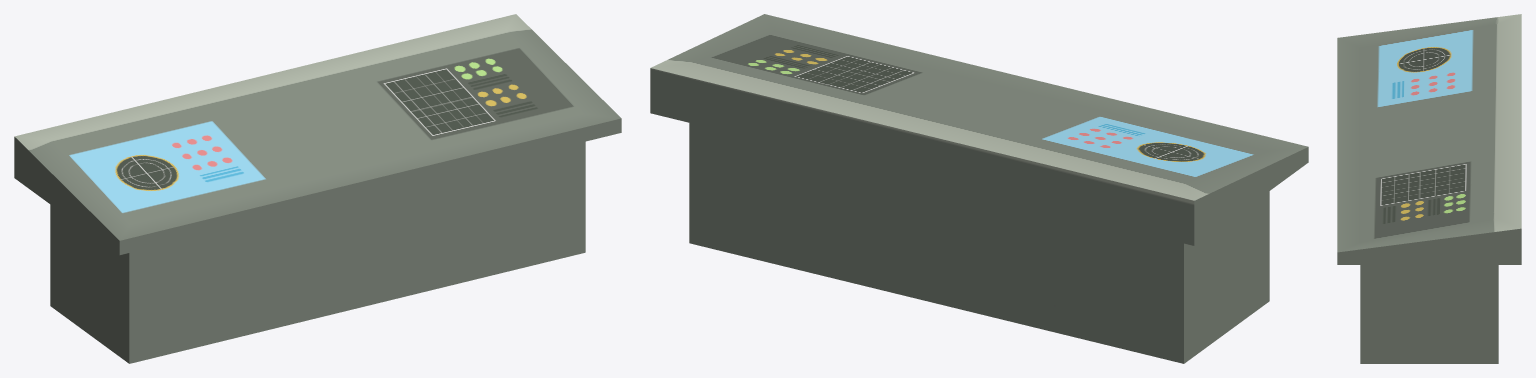
File: controldesk.gltf
3 views of the same model, side by side, from view 1: azimuth 30°, elevation 25°; view 2: azimuth 150°, elevation 25°; view 3: azimuth 270°, elevation 25° (orthographic). The views are drawn at different scales.
Visible parts, largest first — view 1: controlDesk; view 2: controlDesk; view 3: controlDesk.
Part boxes in pixels (x1,y1,x2,y2): controlDesk: [14, 14, 621, 363]; controlDesk: [650, 14, 1308, 363]; controlDesk: [1337, 14, 1521, 363].
Bounding box in the file's own units: 5.5 × 1.73 × 2.
Materials: 1 (1 with a texture image).
